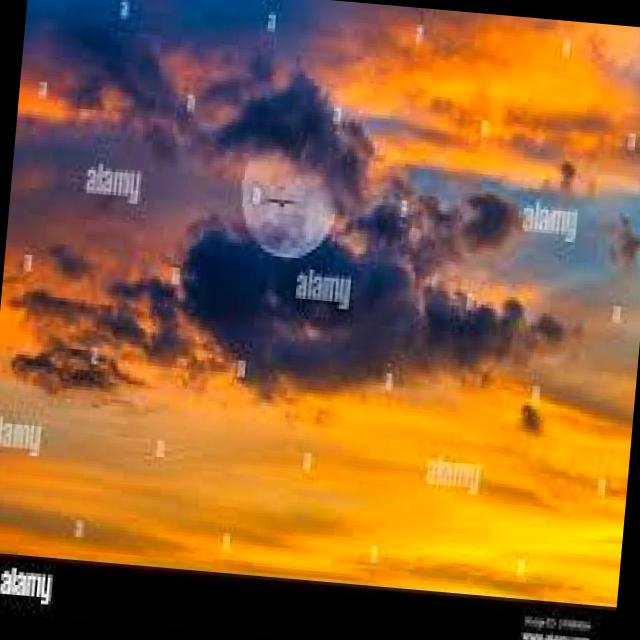bird: (264, 192, 298, 212)
